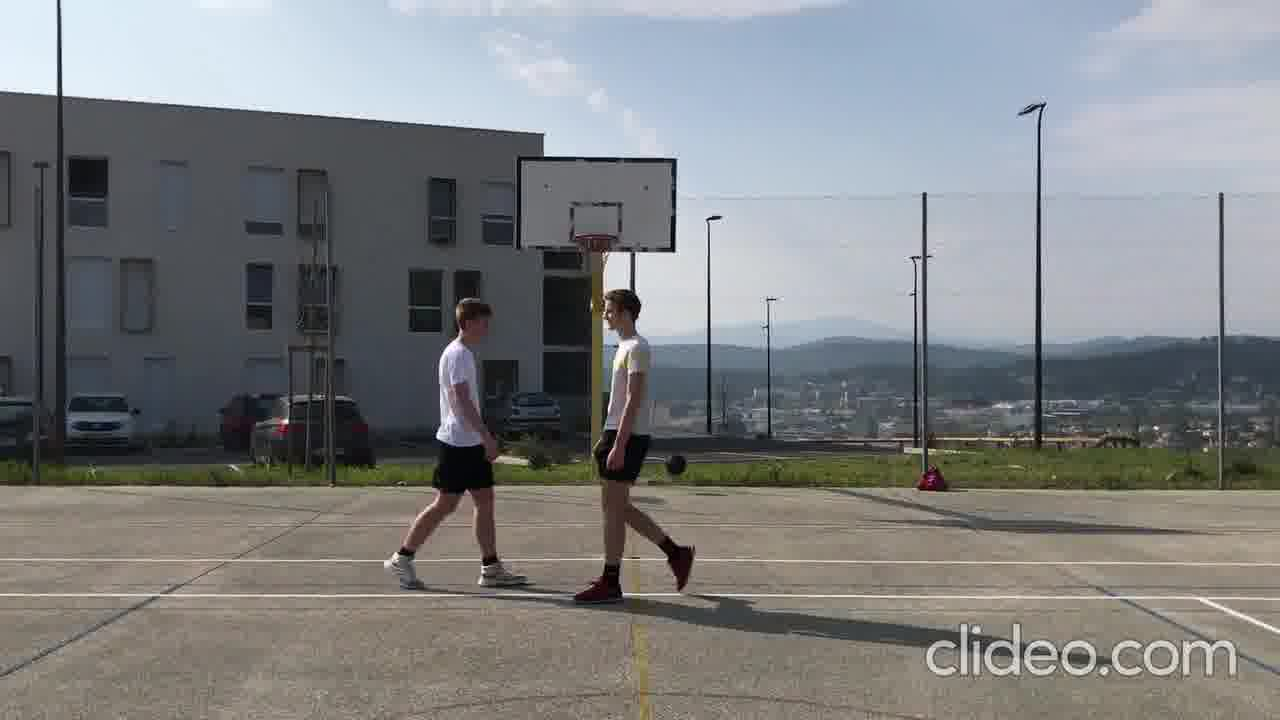jugador: (558, 283, 706, 614)
